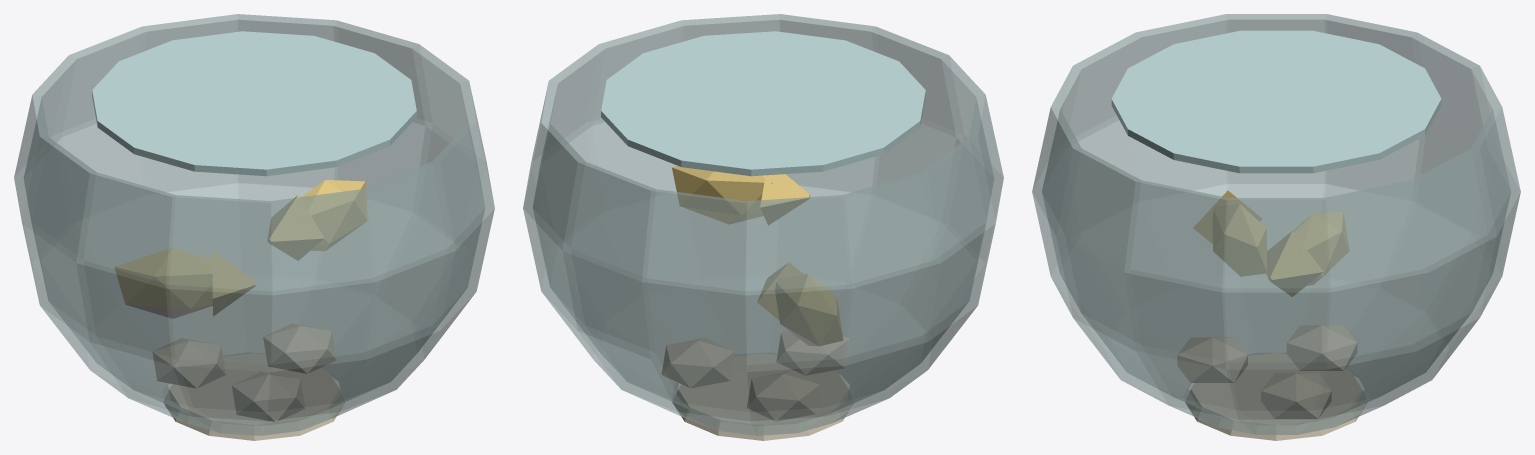
File: Kit_Calm_Hint_FishBowl.glb
3 views of the same model, side by side, from view 1: azimuth 30°, elevation 25°; view 2: azimuth 150°, elevation 25°; view 3: azimuth 270°, elevation 25° (orthographic).
Visible parts, largest first — view 1: EX_HintBowl_Glass, EX_HintBowl_Water, EX_HintBowl_Stone, EX_HintBowl_Fabric; view 2: EX_HintBowl_Glass, EX_HintBowl_Water, EX_HintBowl_Stone, EX_HintBowl_Fabric; view 3: EX_HintBowl_Glass, EX_HintBowl_Water, EX_HintBowl_Stone, EX_HintBowl_Fabric.
Boxes of the visible parts, x1=… form: EX_HintBowl_Glass: x1=14, y1=14, x2=494, y2=435; EX_HintBowl_Water: x1=92, y1=31, x2=416, y2=176; EX_HintBowl_Stone: x1=153, y1=323, x2=345, y2=440; EX_HintBowl_Fabric: x1=115, y1=180, x2=367, y2=318; EX_HintBowl_Glass: x1=523, y1=14, x2=1003, y2=435; EX_HintBowl_Water: x1=601, y1=31, x2=925, y2=176; EX_HintBowl_Stone: x1=662, y1=331, x2=853, y2=440; EX_HintBowl_Fabric: x1=672, y1=166, x2=842, y2=345; EX_HintBowl_Glass: x1=1032, y1=14, x2=1520, y2=434; EX_HintBowl_Water: x1=1111, y1=30, x2=1441, y2=173; EX_HintBowl_Stone: x1=1177, y1=325, x2=1367, y2=440; EX_HintBowl_Fabric: x1=1193, y1=190, x2=1349, y2=296.
Size of the model in its own units: 0.585 by 0.411 by 0.6.
